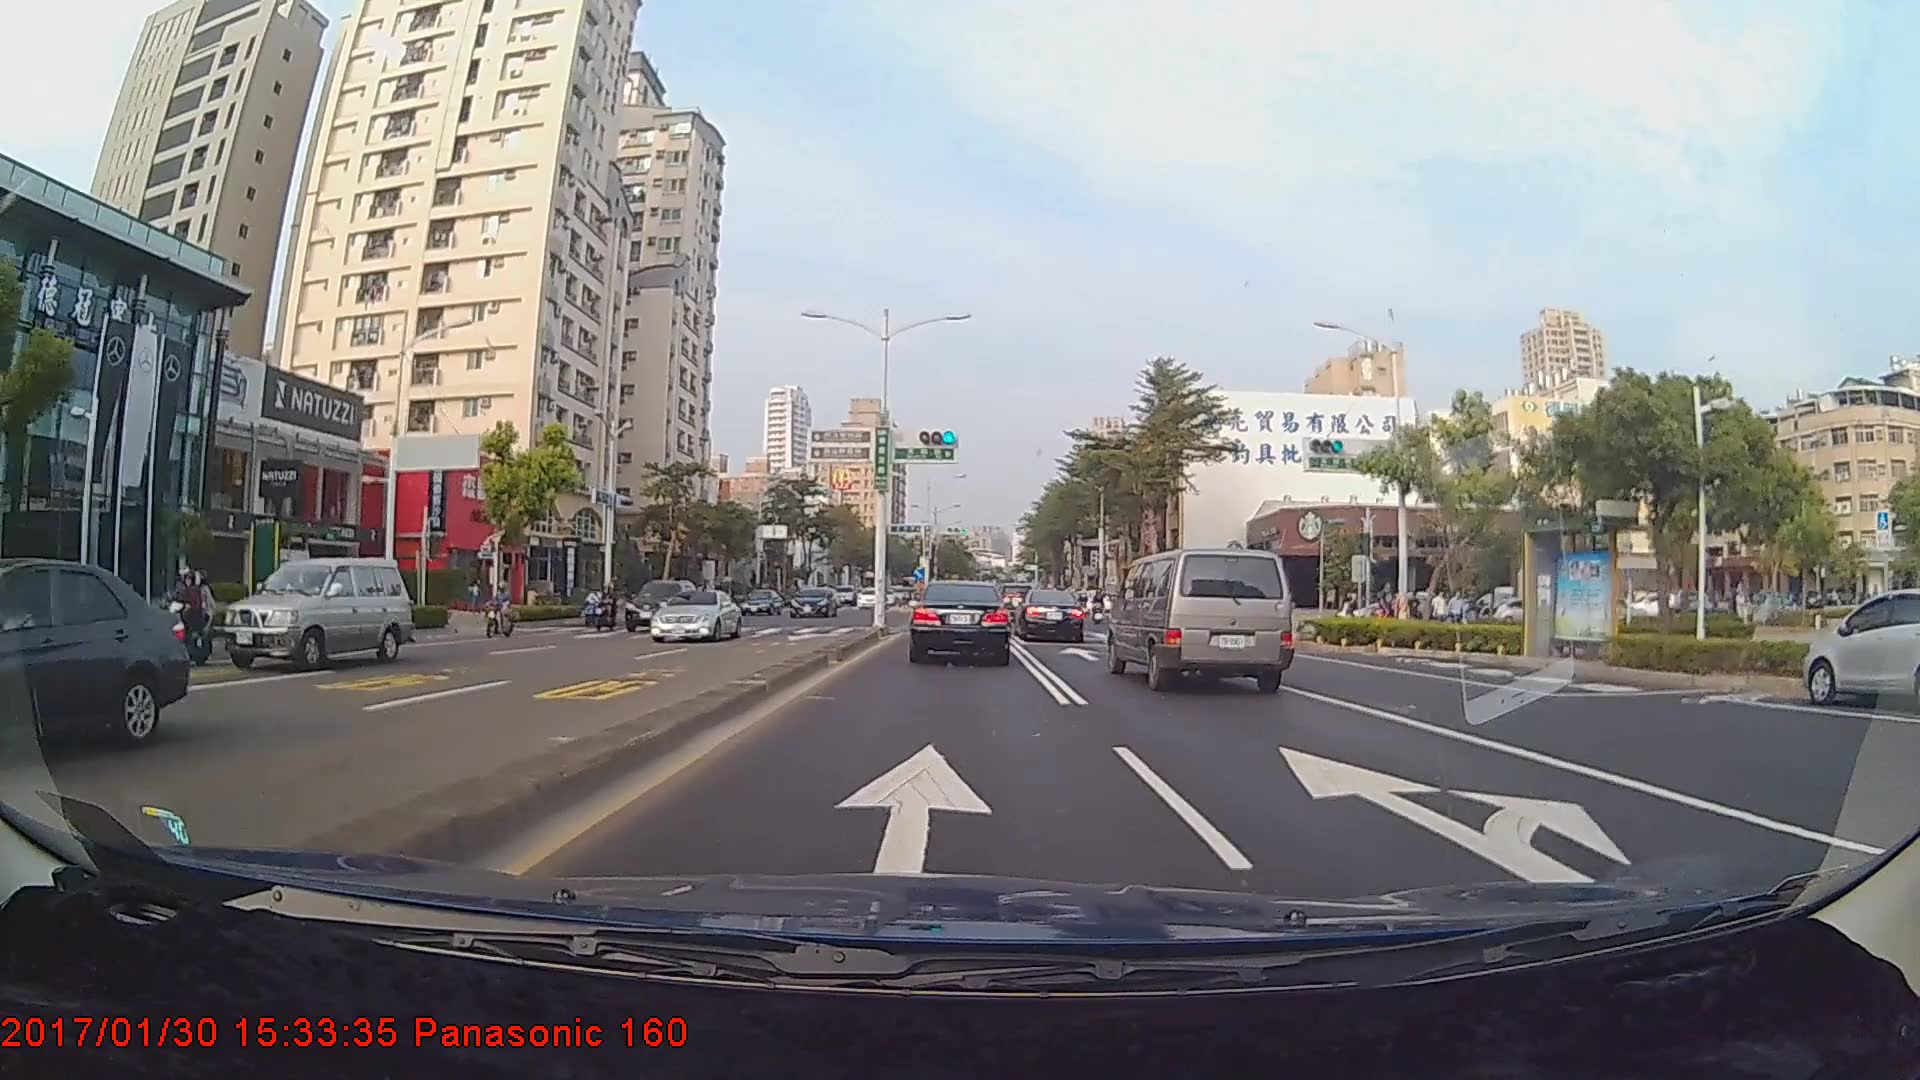rider: (136, 559, 214, 660), (480, 578, 522, 643), (587, 578, 617, 635), (578, 586, 604, 628)
vehicle: (0, 555, 192, 781), (1107, 545, 1295, 694), (218, 553, 413, 671), (1800, 585, 1920, 714), (909, 579, 1009, 664), (648, 589, 740, 643), (623, 576, 700, 633), (1013, 589, 1086, 641), (788, 586, 837, 618), (739, 588, 782, 615)
